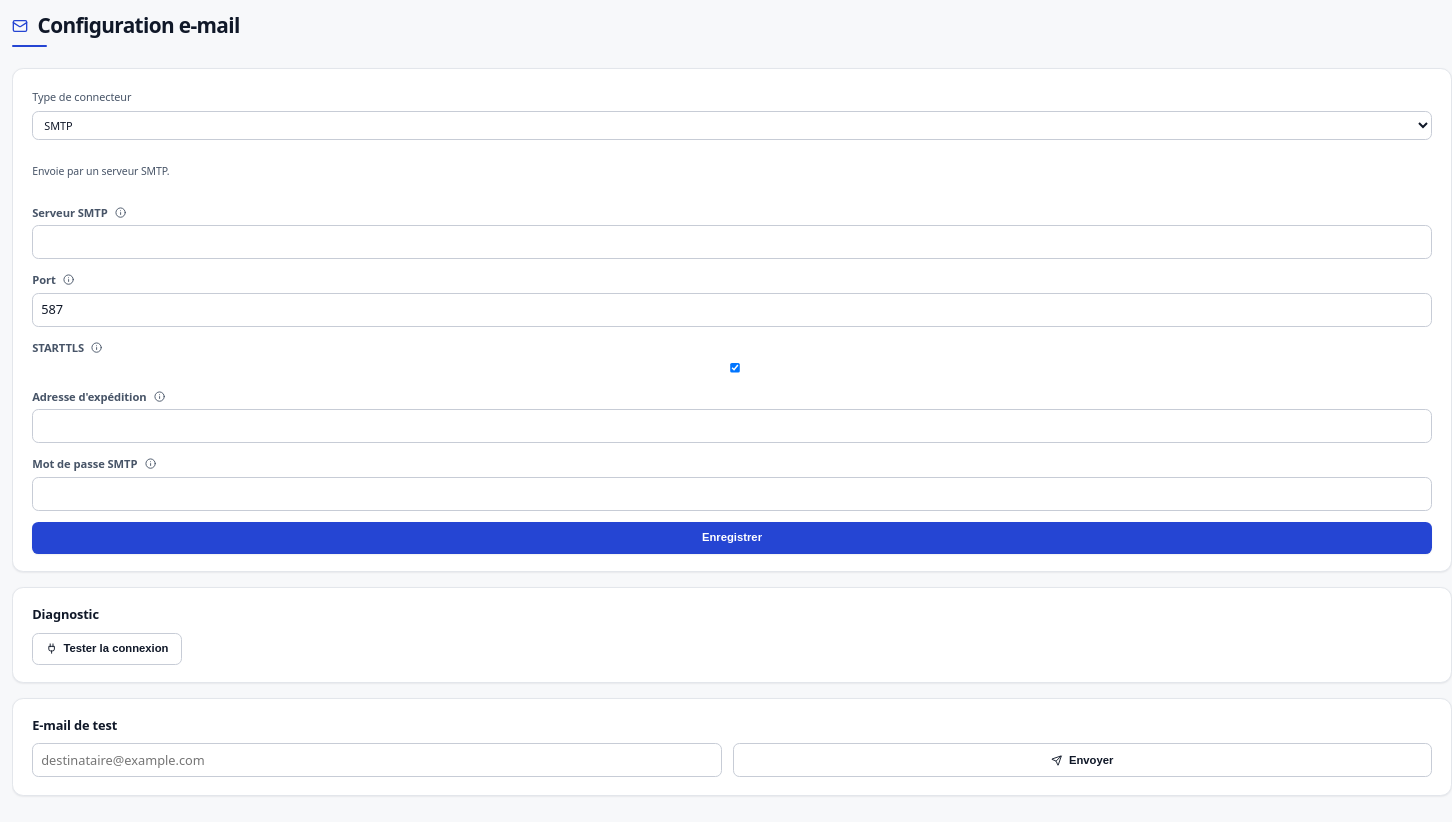
Test case: AdminMailPage — one form per connector, every field explained › shows the fields of the chosen connector, each with a help bubble and an example
Expected: the field labelled "Serveur SMTP" is shown, [32, 225, 1432, 259]
Expected: the text with test id "mail-kind-description" shows "serveur SMTP", [32, 164, 170, 178]
Another connector, another form: nothing of the SMTP one is left.
Step 1. Select "Google Workspace (Gmail)" in the dropdown labelled "Type de connecteur" → (732, 126), box [32, 111, 1432, 140]
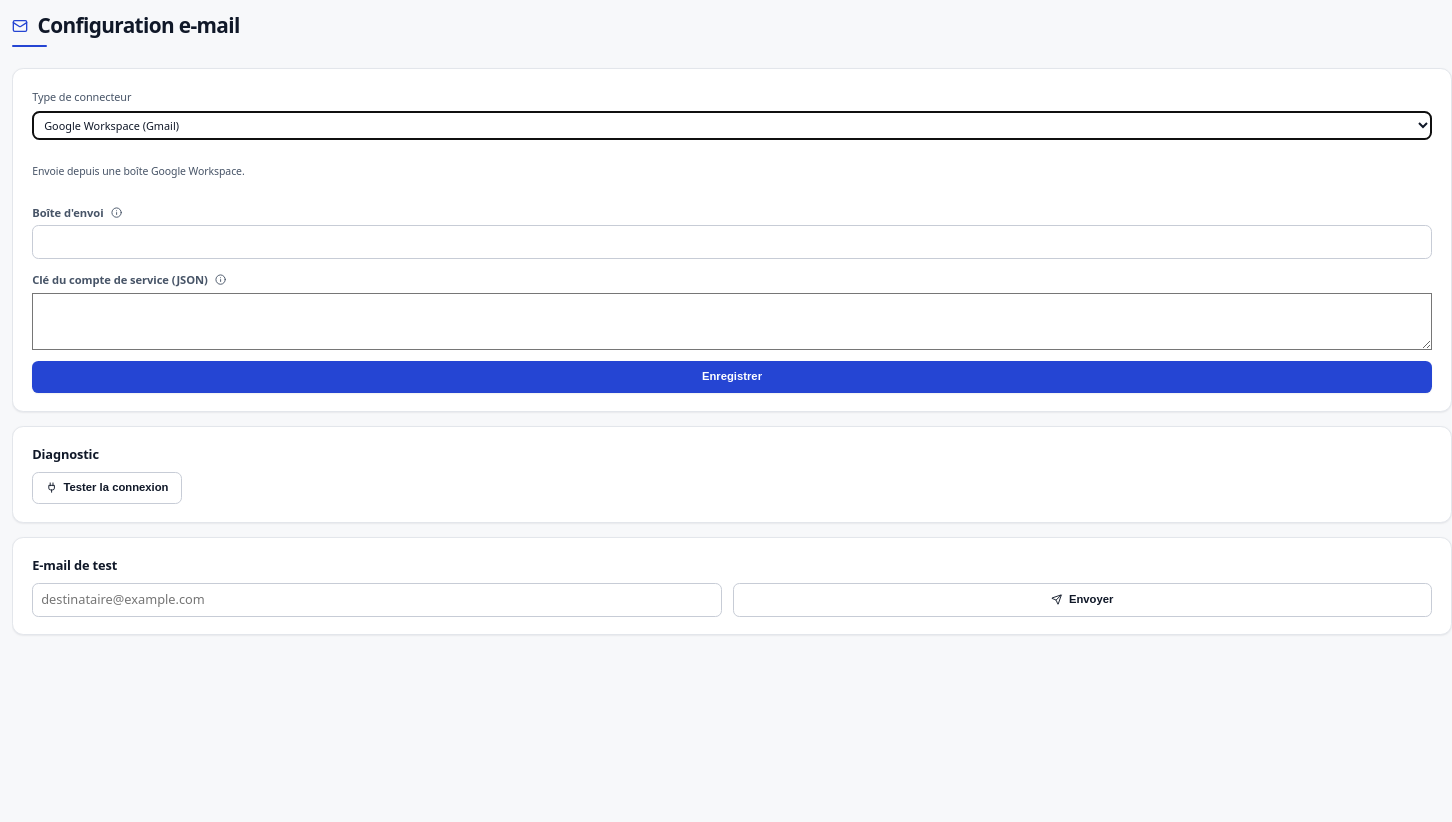
Expected: the field labelled "Boîte d'envoi" is shown, [32, 225, 1432, 259]
Expected: the text labelled "serveur SMTP" is gone
Expected: the text with test id "mail-kind-description" shows "Google Workspace", [32, 164, 245, 178]
